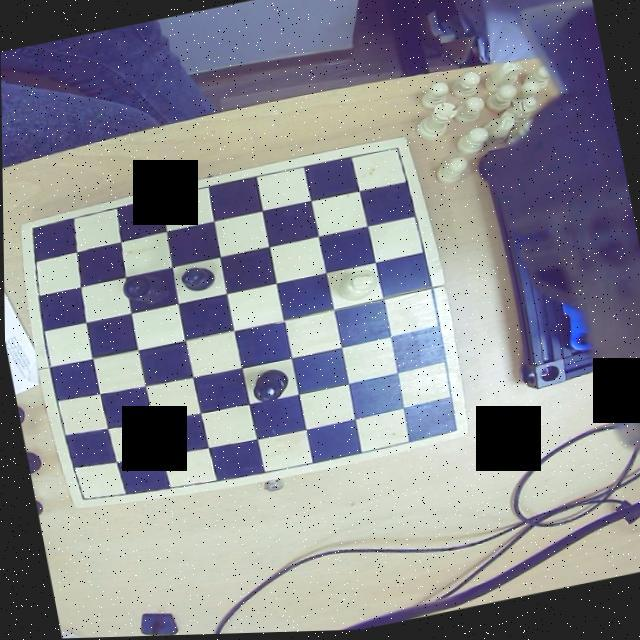chess-table-corners: (436, 416, 464, 442), (18, 218, 48, 240), (384, 140, 409, 166), (68, 484, 92, 507)
